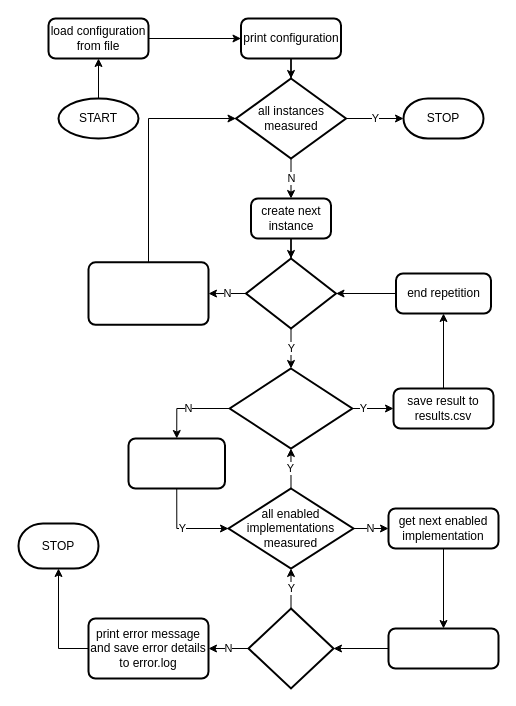
Some shapes in this 516 by 706 pixel diagram are drawn without their labels. Here are the shapes that lost their labels. From the top down, the centre of each, then its label:
At point (148, 293): "calculate print average results for instance".
At point (290, 293): "any repetitions left".
At point (290, 408): "all enabled algorithms measured".
At point (176, 463): "get next enabled algorithm".
At point (290, 648): "solution is valid".
At point (443, 648): "measure implementation".
